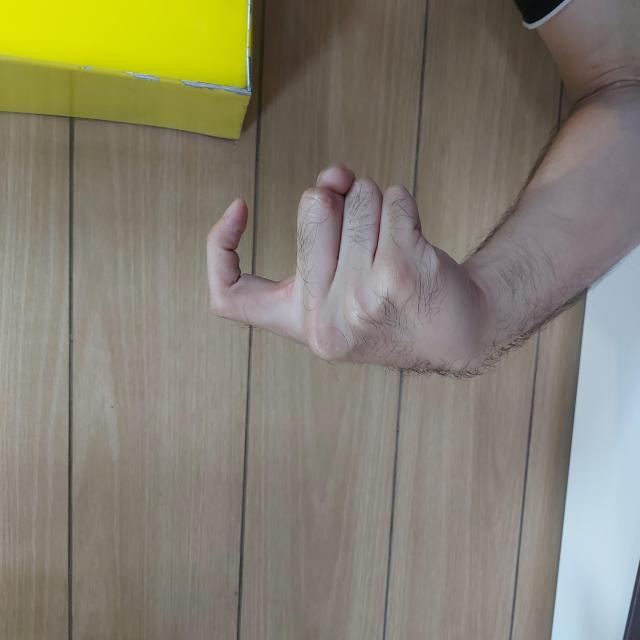X: (262, 203, 476, 486)
